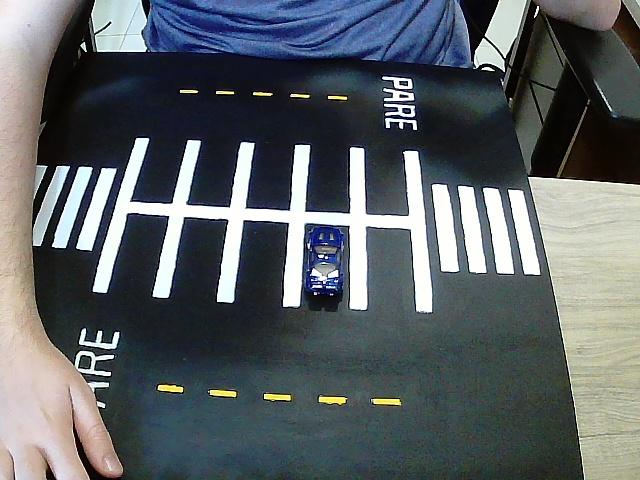Carro: (305, 226, 347, 296)
